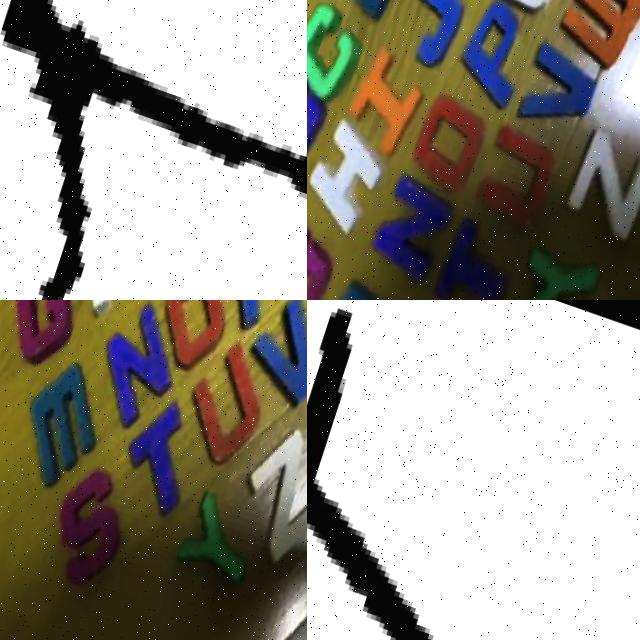1: (0, 0, 307, 300)
7: (307, 300, 640, 640)
B: (307, 64, 331, 162)
C: (307, 0, 370, 104)
G: (0, 300, 87, 369), (307, 216, 339, 300)
H: (307, 117, 391, 226)
I: (339, 40, 433, 149)
J: (379, 0, 469, 72)
M: (10, 345, 116, 484)
N: (81, 300, 190, 441), (358, 170, 458, 289)
O: (401, 93, 490, 189), (144, 300, 243, 370)
P: (451, 0, 540, 103), (209, 300, 302, 333)
S: (38, 462, 136, 586)
T: (108, 397, 200, 518), (424, 211, 515, 300)
U: (171, 337, 278, 470), (466, 120, 562, 230)
V: (509, 37, 604, 135), (233, 300, 307, 408)
W: (547, 0, 640, 68)
Y: (166, 490, 263, 594), (505, 229, 607, 300)
Z: (225, 413, 307, 564), (554, 122, 640, 242)
